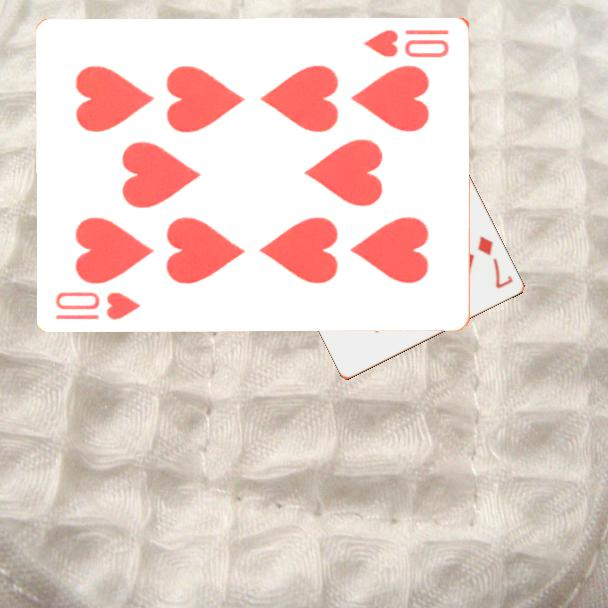d07: (474, 233, 516, 292)
h10: (52, 287, 143, 322), (361, 26, 452, 60)
